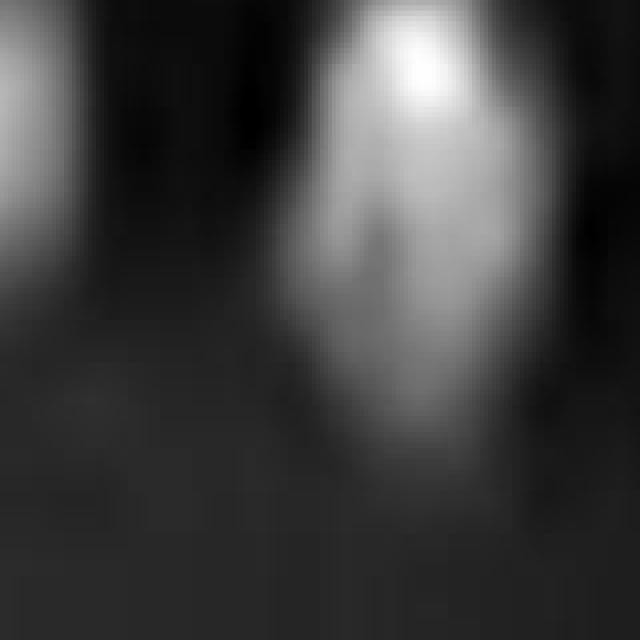person: (289, 1, 561, 465), (1, 1, 105, 396)
